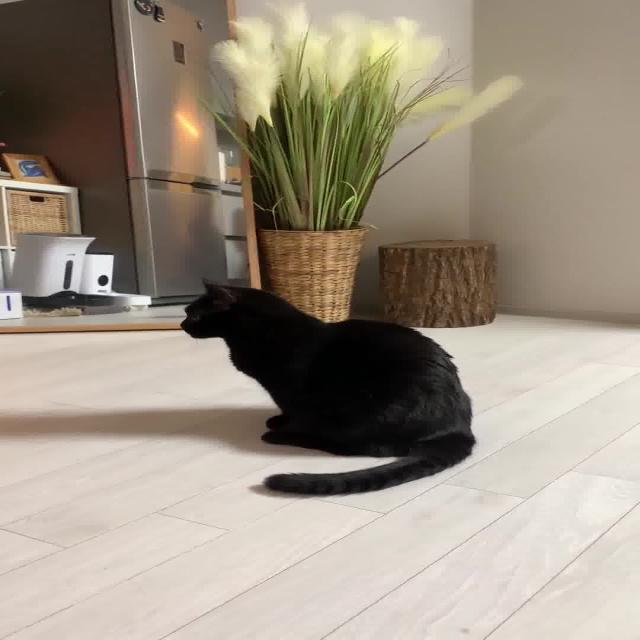cat: (139, 263, 502, 505)
